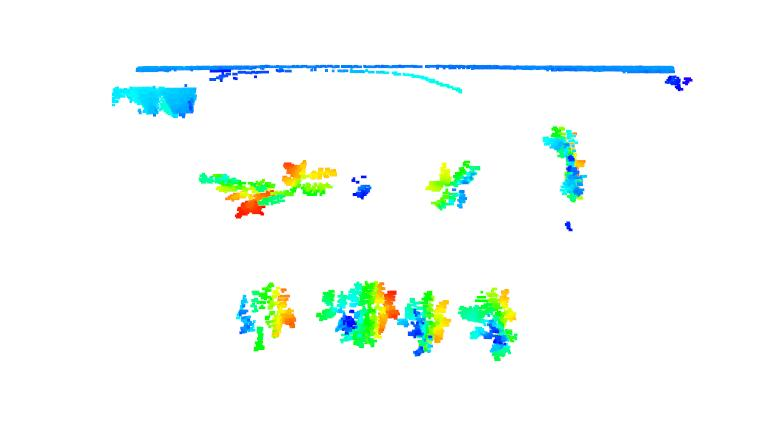chickpea: (320, 279, 401, 350), (455, 287, 521, 363), (236, 281, 297, 352), (195, 170, 276, 219), (542, 124, 588, 202), (401, 290, 452, 358), (263, 162, 339, 205), (426, 160, 483, 211)
